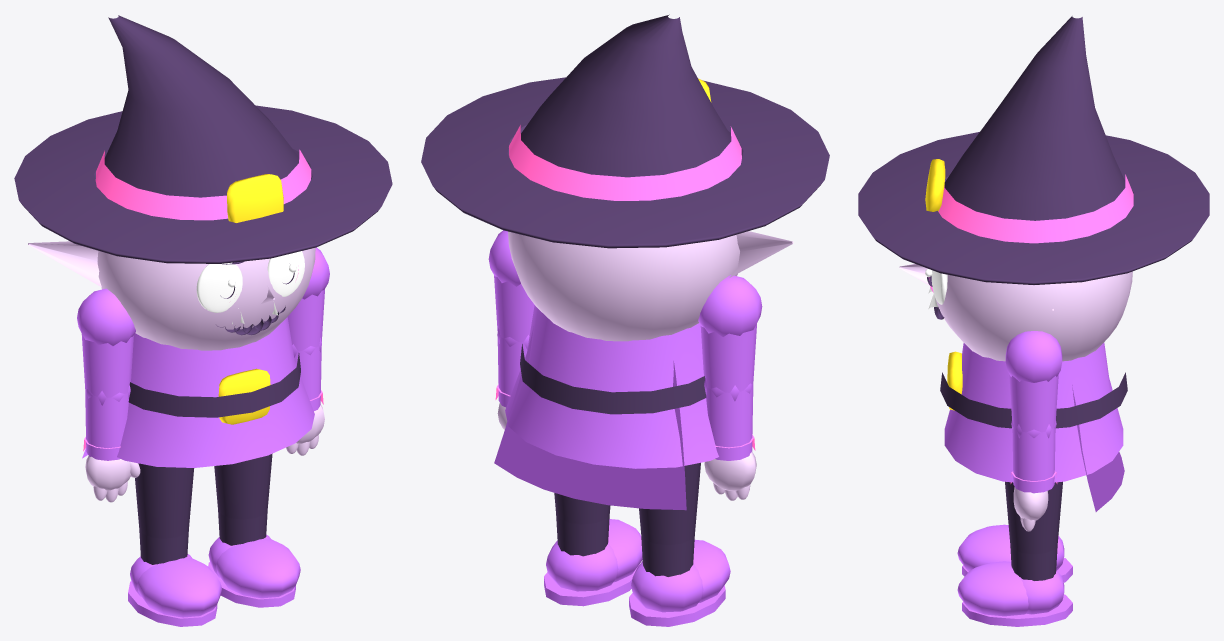
File: witch-imp.glb
3 views of the same model, side by side, from view 1: azimuth 30°, elevation 25°; view 2: azimuth 150°, elevation 25°; view 3: azimuth 270°, elevation 25° (orthographic). The views are drawn at different scales.
Visible parts, largest first — view 1: Head, Body, Leg_L, Leg_R, Arm_L, Arm_R; view 2: Head, Body, Arm_L, Leg_L, Leg_R, Extra, Arm_R; view 3: Head, Body, Leg_R, Arm_R, Leg_L, Extra.
Part boxes in pixels (x1=…): Head: x1=14, y1=15, x2=392, y2=350; Body: x1=117, y1=317, x2=314, y2=467; Leg_L: x1=128, y1=463, x2=221, y2=626; Leg_R: x1=208, y1=453, x2=300, y2=607; Arm_L: x1=77, y1=288, x2=140, y2=502; Arm_R: x1=286, y1=247, x2=329, y2=455; Head: x1=421, y1=14, x2=829, y2=341; Body: x1=505, y1=305, x2=718, y2=468; Arm_L: x1=698, y1=275, x2=762, y2=500; Leg_L: x1=629, y1=462, x2=730, y2=626; Leg_R: x1=544, y1=493, x2=642, y2=606; Extra: x1=494, y1=326, x2=686, y2=510; Arm_R: x1=488, y1=230, x2=534, y2=429; Head: x1=858, y1=16, x2=1209, y2=361; Body: x1=940, y1=342, x2=1127, y2=482; Leg_R: x1=957, y1=481, x2=1072, y2=626; Arm_R: x1=1005, y1=331, x2=1062, y2=531; Leg_L: x1=957, y1=524, x2=1072, y2=582; Extra: x1=1072, y1=385, x2=1124, y2=511.
Bounding box in the file's own units: 3.53 × 5.86 × 3.4.
